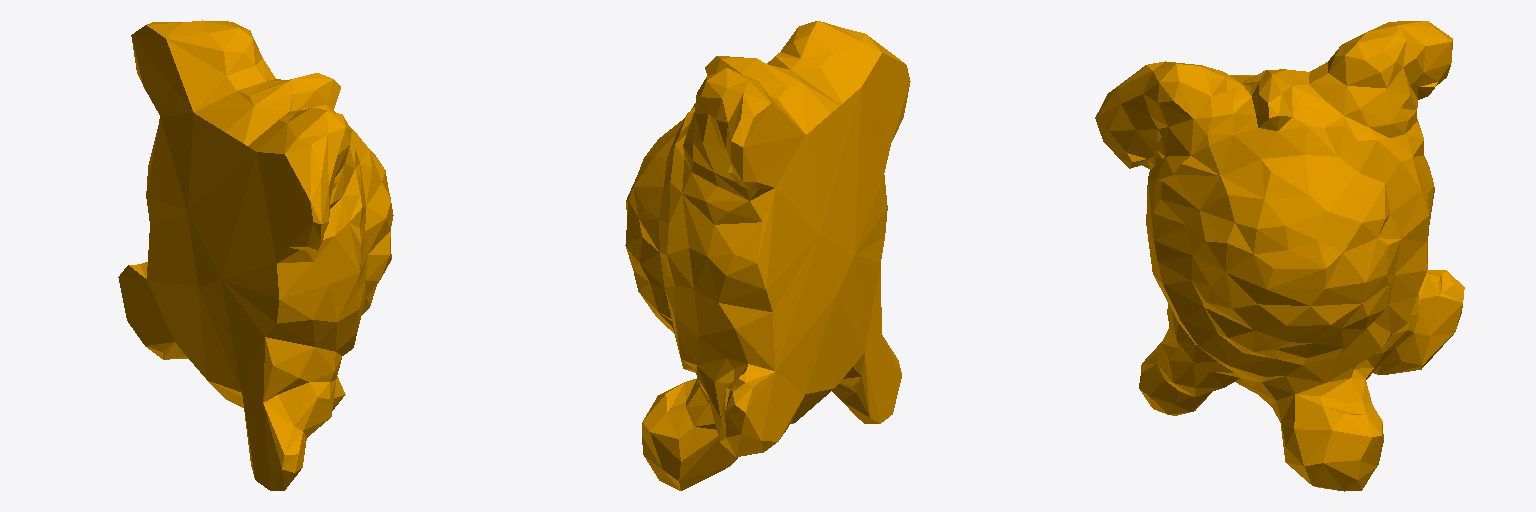
robot.urdf — Tortoise_800_tex:
<?xml version="1.0"?>
<robot name="Tortoise_800_tex">
  <link name="base_link">
    <contact>
      <lateral_friction value="1.0"/>
      <rolling_friction value="0.0"/>
      <contact_cfm value="0.0"/>
      <contact_erp value="1.0"/>
    </contact>
    <inertial>
      <mass value="0.0172848490593"/>
      <inertia ixx="1" ixy="0" ixz="0" iyy="1" iyz="0" izz="1"/>
    </inertial>
    <visual>
      <geometry>
        <mesh filename="Tortoise_800_tex_visual.obj"/>
      </geometry>
    </visual>
    <collision>
      <geometry>
        <mesh filename="Tortoise_800_tex_collision.obj"/>
      </geometry>
    </collision>
  </link>
</robot>

--- Facts derived from the render (not from the file) ---
Views: 3 orthographic renders of the robot side by side, from view 1: azimuth 30°, elevation 25°; view 2: azimuth 150°, elevation 25°; view 3: azimuth 270°, elevation 25°.
Model Tortoise_800_tex with 1 links and 0 joints (none), rooted at base_link, posed every joint at zero.
Links seen in each view (by area): view 1: base_link; view 2: base_link; view 3: base_link.
Boxes of the visible links, x1,y1,x2,y2 form: base_link: [118, 20, 393, 490]; base_link: [625, 21, 910, 490]; base_link: [1095, 21, 1464, 491].
Size in the robot's own frame: 0.0268 by 0.045 by 0.0571 metres.
Meshes: 1 distinct files referenced, 1 mesh visuals loaded (1 OBJ).